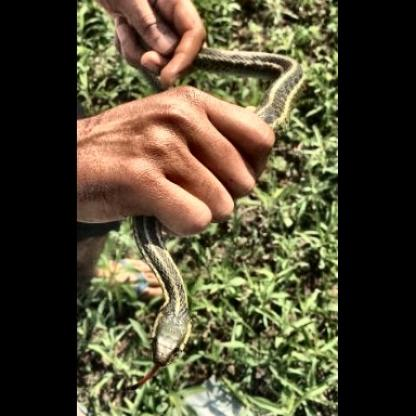Snake: (118, 227, 195, 392)
